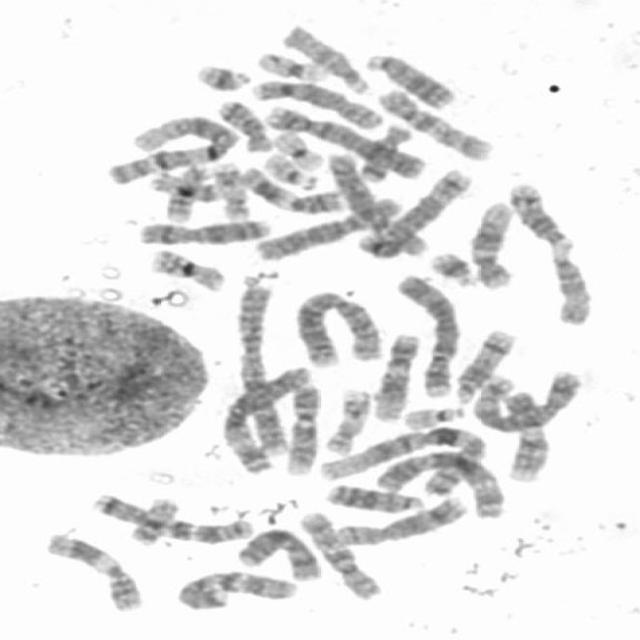A1: (314, 420, 490, 493), (102, 110, 241, 187)
A2: (231, 278, 293, 459), (289, 285, 387, 369)
A3: (213, 361, 314, 475), (370, 447, 510, 519)
B4: (260, 101, 428, 180), (388, 267, 462, 399)
B5: (350, 162, 473, 258), (468, 365, 585, 432)
C10: (371, 83, 498, 162), (292, 505, 384, 602)
C11: (39, 526, 148, 614), (235, 162, 348, 216)
C12: (367, 328, 424, 423), (464, 197, 518, 290)
C6: (323, 148, 433, 259), (249, 191, 402, 262)
C7: (86, 487, 257, 545), (170, 564, 302, 612)
C8: (327, 491, 472, 547), (247, 74, 386, 130)
C9: (498, 389, 552, 484), (278, 378, 324, 476)
D13: (359, 48, 460, 111), (321, 478, 429, 514)
D14: (449, 322, 519, 404), (504, 176, 574, 251)
D15: (276, 19, 374, 95), (546, 243, 596, 327)
E16: (144, 243, 228, 293), (159, 159, 215, 223)
E17: (318, 383, 374, 456), (208, 157, 253, 220)
E18: (211, 94, 274, 153), (355, 120, 414, 182)
F19: (250, 46, 329, 83), (269, 126, 327, 172)
F20: (125, 492, 183, 546), (145, 166, 223, 204)
G21: (424, 245, 482, 288), (190, 58, 254, 93)
G22: (258, 147, 323, 191), (397, 400, 469, 430)
X: (231, 522, 324, 582), (133, 213, 276, 247)
